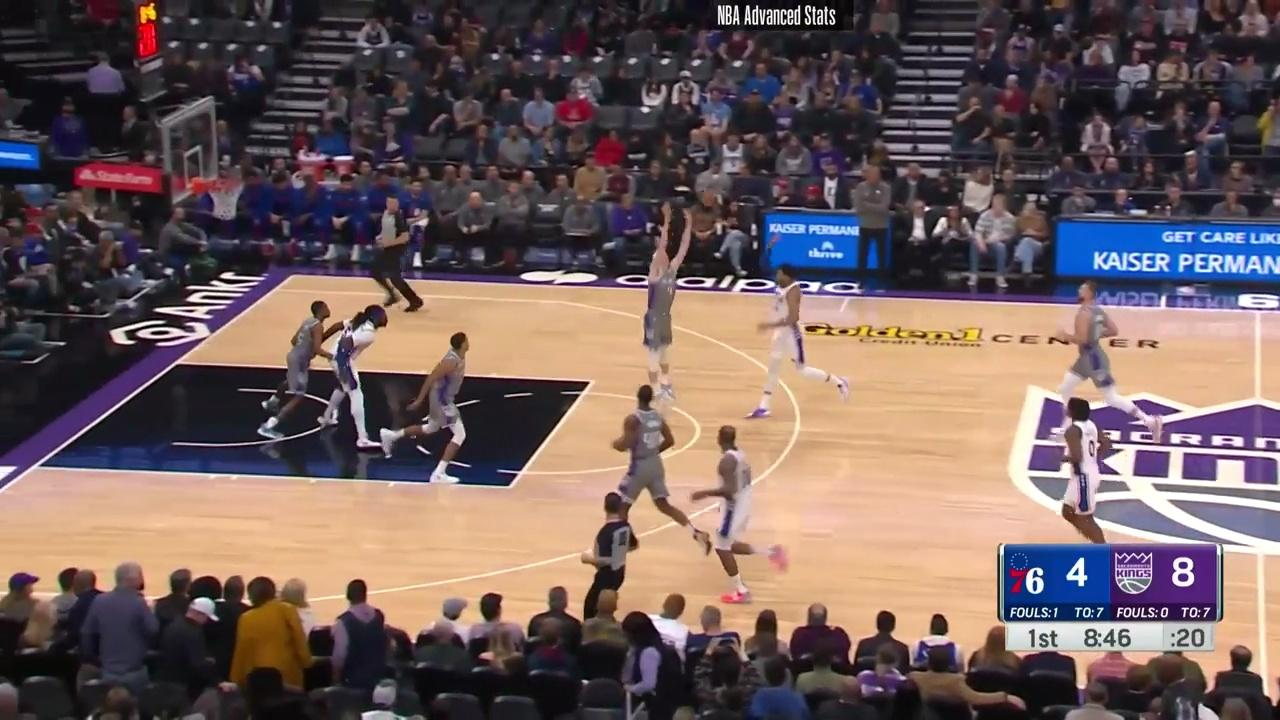Backboard: (164, 98, 219, 207)
Ball: (699, 188, 717, 208)
Basket: (207, 176, 247, 219)
Person: (1042, 279, 1150, 427), (751, 265, 854, 418), (697, 419, 785, 598), (602, 387, 699, 549), (388, 327, 483, 488), (639, 195, 696, 395), (322, 302, 393, 450), (266, 294, 335, 439), (1054, 393, 1115, 549)
Referee: (369, 191, 429, 313), (582, 489, 640, 615)
Shot Clock: (122, 4, 174, 99)
